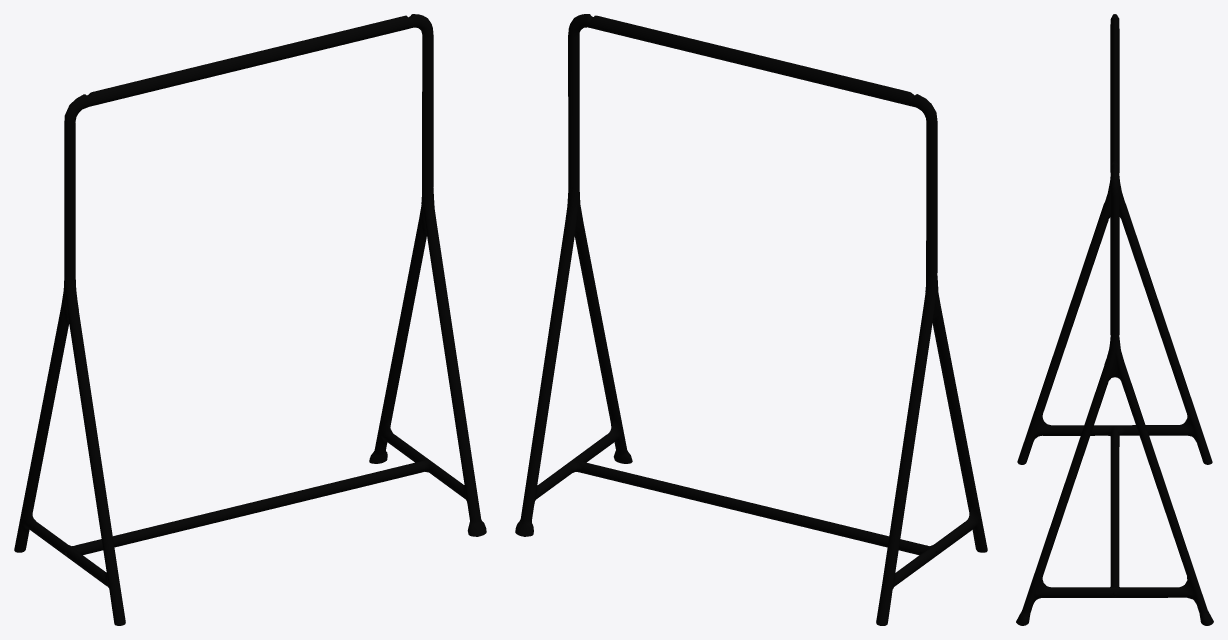
File: turbo_wieszak_na_ubrania_wew_zew_40177233.glb
The picture shows the model from 3 angles, left to right: view 1: azimuth 30°, elevation 25°; view 2: azimuth 150°, elevation 25°; view 3: azimuth 270°, elevation 25°; orthographic projection. The views are drawn at different scales.
Parts seen in each view (by area): view 1: turbo_wieszak_na_ubrania_wew_zew_40177233; view 2: turbo_wieszak_na_ubrania_wew_zew_40177233; view 3: turbo_wieszak_na_ubrania_wew_zew_40177233.
Part boxes in pixels (x1,y1,x2,y2): turbo_wieszak_na_ubrania_wew_zew_40177233: (14, 14, 486, 625); turbo_wieszak_na_ubrania_wew_zew_40177233: (515, 14, 987, 625); turbo_wieszak_na_ubrania_wew_zew_40177233: (1016, 14, 1213, 625).
Bounding box in the file's own units: 1.18 × 1.49 × 0.5876.
1 material, 1 textured.
